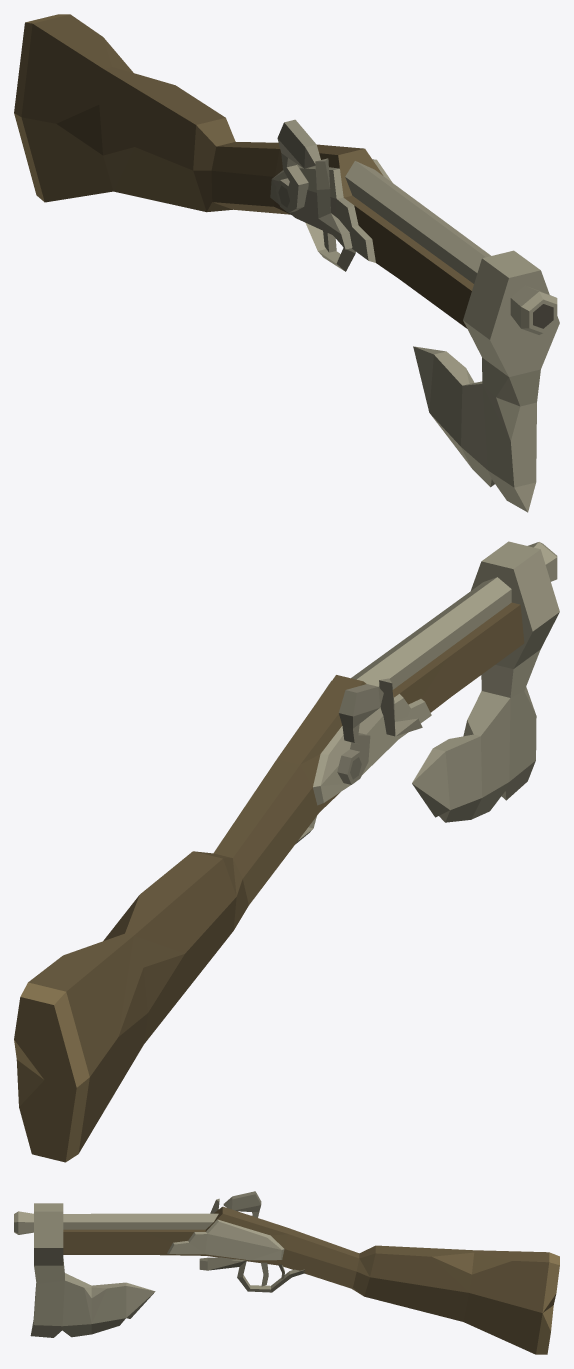
The model's file is AxeGun_1.fbx.
3 views of the same model, one above another, from view 1: azimuth 30°, elevation 25°; view 2: azimuth 150°, elevation 25°; view 3: azimuth 270°, elevation 25° (orthographic). The views are drawn at different scales.
Parts seen in each view (by area): view 1: AxeGun_1; view 2: AxeGun_1; view 3: AxeGun_1.
Boxes of the visible parts, left/top/right/bottom form: AxeGun_1: left=14, top=14, right=559, bottom=512; AxeGun_1: left=14, top=541, right=559, bottom=1162; AxeGun_1: left=14, top=1191, right=559, bottom=1354.
Bounding box in the file's own units: 8.23 × 28.59 × 94.77.
